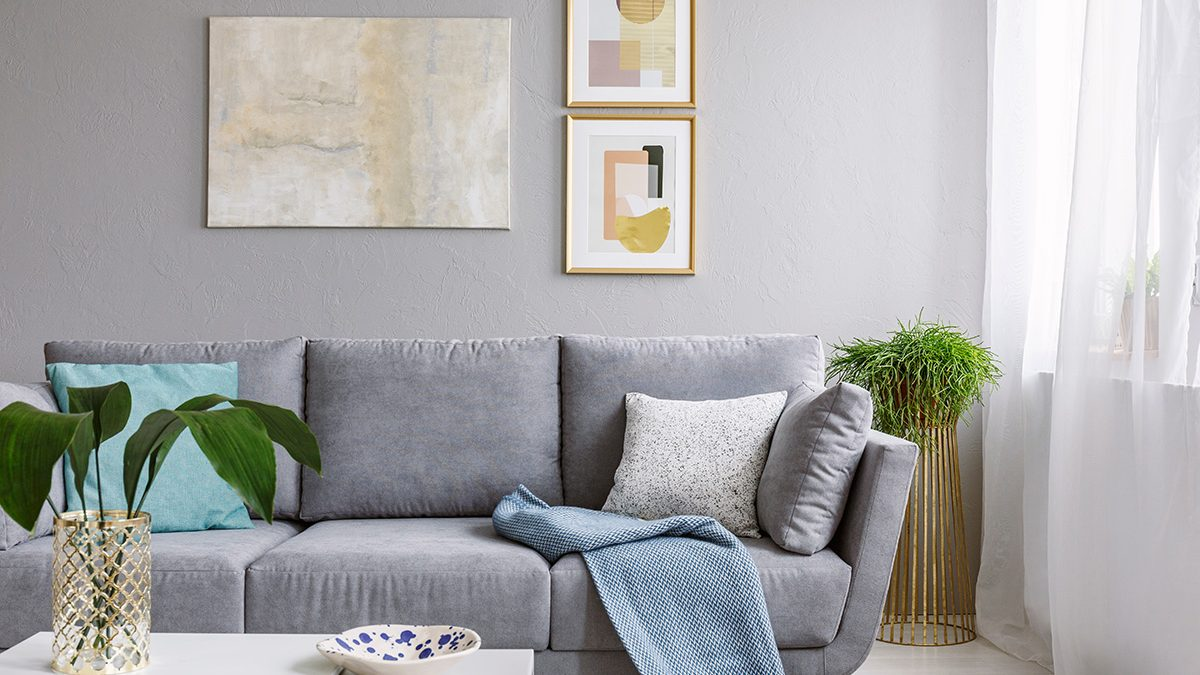Painting: (203, 8, 514, 231), (570, 113, 699, 275), (559, 0, 703, 106)
Plant: (830, 313, 994, 661)
Sofa: (3, 327, 918, 674)
